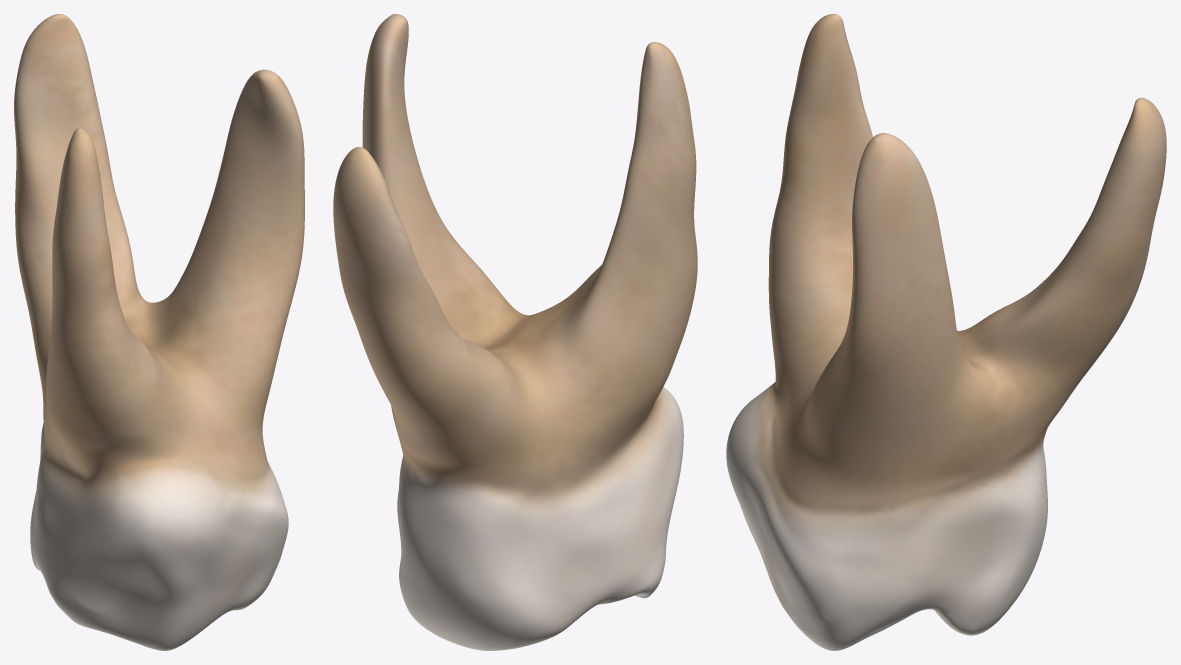
The picture shows the model from 3 angles, left to right: view 1: azimuth 30°, elevation 25°; view 2: azimuth 150°, elevation 25°; view 3: azimuth 270°, elevation 25°; orthographic projection. The views are drawn at different scales.
Visible parts, largest first — view 1: Object_3, Object_5, Object_7, Object_6, Object_8, Object_4; view 2: Object_5, Object_6, Object_4, Object_3, Object_8, Object_7; view 3: Object_5, Object_7, Object_6, Object_3, Object_4, Object_8.
Boxes of the visible parts, x1,y1,x2,y2 form: Object_3: (14, 16, 264, 650); Object_5: (32, 77, 304, 648); Object_7: (39, 16, 304, 650); Object_6: (14, 14, 288, 648); Object_8: (15, 127, 240, 580); Object_4: (30, 70, 304, 650); Object_5: (341, 19, 696, 603); Object_6: (333, 147, 667, 632); Object_4: (362, 14, 678, 650); Object_3: (388, 42, 697, 650); Object_8: (339, 42, 697, 495); Object_7: (351, 14, 688, 650); Object_5: (755, 16, 1161, 636); Object_7: (727, 16, 1151, 650); Object_6: (741, 97, 1166, 648); Object_3: (726, 14, 1132, 650); Object_4: (740, 133, 1127, 635); Object_8: (726, 14, 1161, 568).
Size of the model in its own units: 4.43 by 8.35 by 5.92.
1 material, 1 textured.
